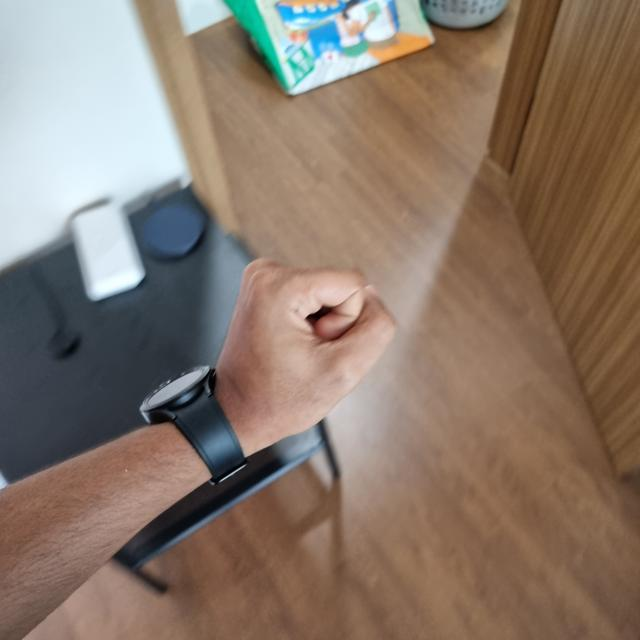Rock: (218, 262, 392, 445)
